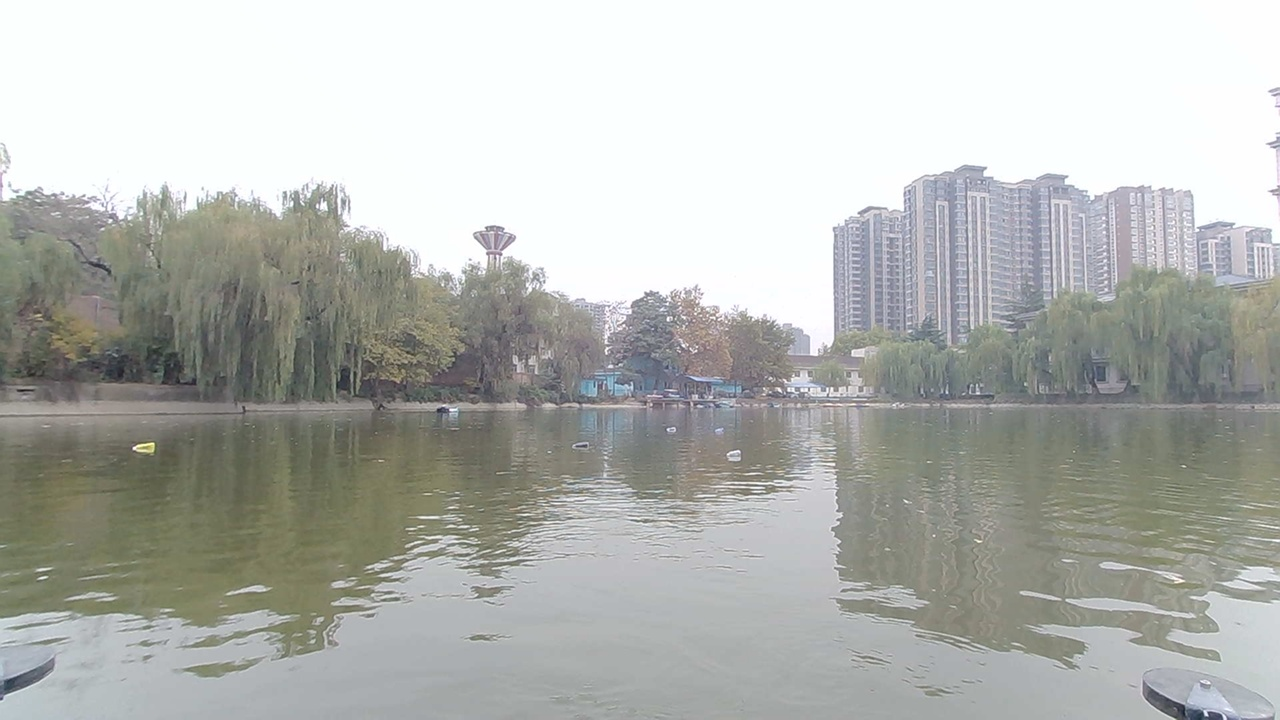bottle: (123, 430, 171, 462), (561, 437, 591, 459), (721, 444, 751, 465), (705, 420, 738, 437), (663, 417, 685, 436)
